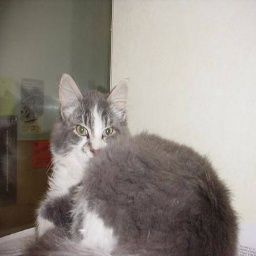cat: (21, 70, 236, 256)
